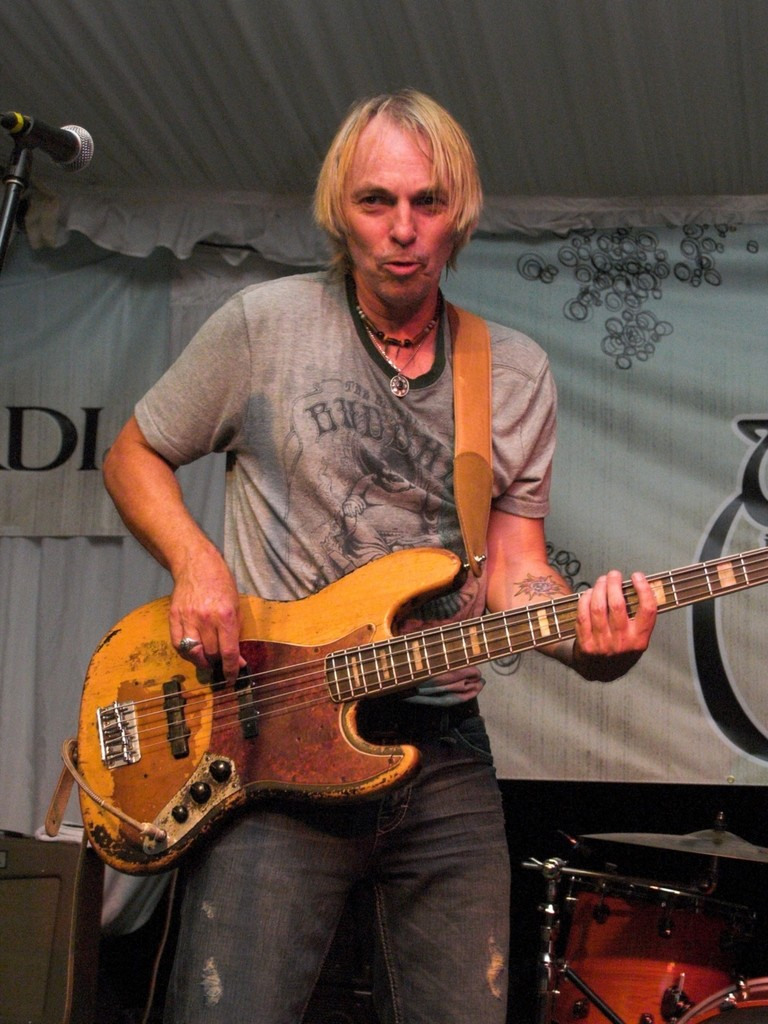guitar: (44, 302, 767, 877)
